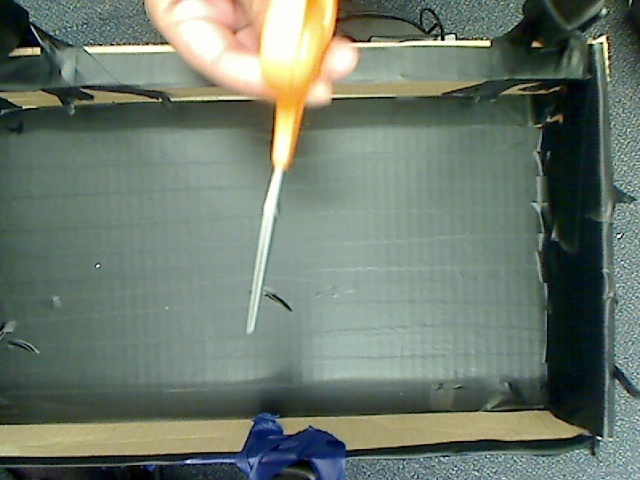scissors: (205, 1, 349, 343)
